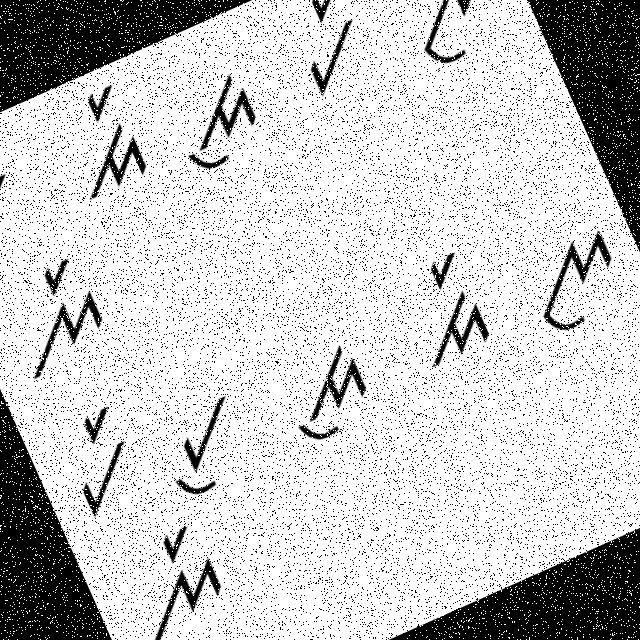dar: (386, 228, 518, 374), (44, 74, 170, 207)
daw: (261, 329, 394, 462), (156, 54, 280, 184)
nar: (0, 242, 131, 388), (114, 514, 252, 639)
naw: (502, 207, 639, 353), (392, 0, 521, 77)
par: (40, 392, 162, 530), (268, 0, 382, 105)
paw: (143, 376, 270, 505), (0, 163, 43, 285)
